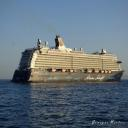cruises: (12, 34, 126, 85)
